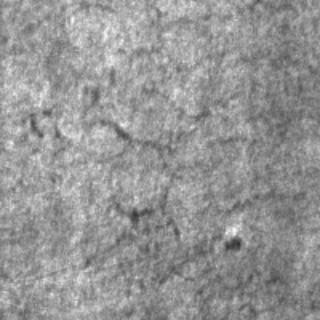crazing: (19, 36, 251, 168), (79, 186, 283, 304)
